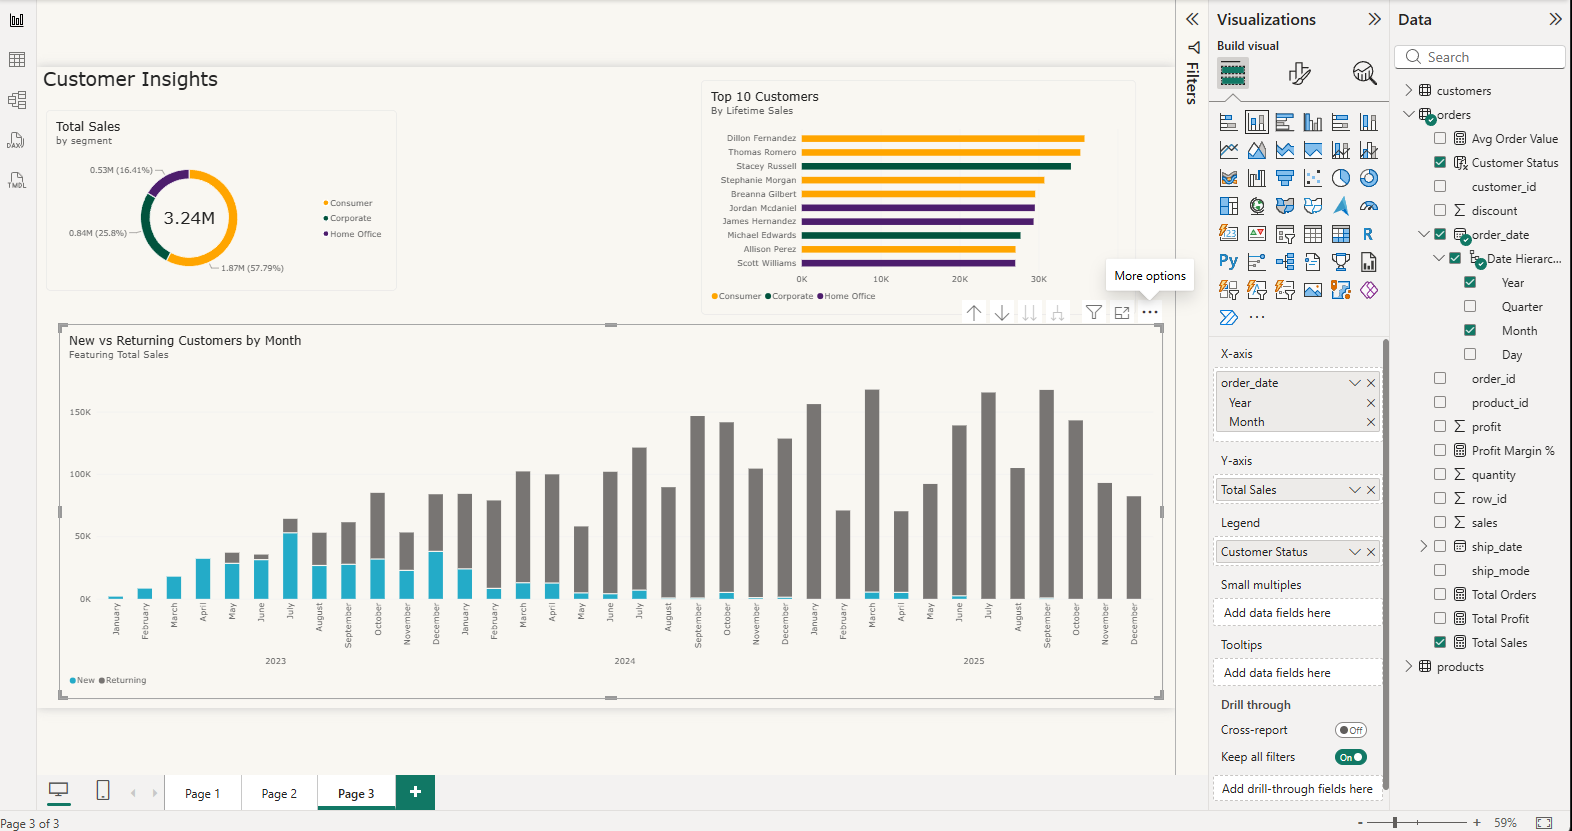

The page's visual inventory and layout, read from the dashboard file:
{"tool":"powerbi","page":{"name":"Page 3","canvas":[1920,1080],"ordinal":2},"visuals":[{"type":"textbox","box":[21.9,0,302,42.2],"z":0},{"type":"donutChart","fields":{"Y":["orders.Total Sales"],"Category":["customers.segment"]},"box":[543.3,21.9,604,396.5],"z":1000},{"type":"barChart","title":"Top 10 Customers","fields":{"Category":["customers.customer_name"],"Y":["orders.Total Sales"],"Series":["customers.segment"]},"box":[1165.8,21.9,733.9,396.5],"z":2000},{"type":"columnChart","title":"New vs Returning Customers by Month","fields":{"Series":["orders.Customer Status"],"Y":["orders.Total Sales"],"Category":["orders.order_date.Variation.Date Hierarchy.Year","orders.order_date.Variation.Date Hierarchy.Month"]},"box":[21.9,433.6,1877.8,632.7],"z":3000},{"type":"slicer","fields":{"Values":["orders.order_date"]},"box":[21.9,57.4,492.7,163.7],"z":4000},{"type":"slicer","fields":{"Values":["customers.segment"]},"box":[21.9,249.7,492.7,168.7],"z":5000}]}

Visuals, with their boxes on the page's 1920x1080 design canvas (x1, y1, x2, y2). These are canvas units, not pixel positions in the 1572x831 screenshot, which may show the page scaled, cropped or inside an application window:
textbox: [left=22, top=0, right=324, bottom=42]
donutChart - orders.Total Sales x customers.segment: [left=543, top=22, right=1147, bottom=418]
"Top 10 Customers" barChart: [left=1166, top=22, right=1900, bottom=418]
"New vs Returning Customers by Month" columnChart: [left=22, top=434, right=1900, bottom=1066]
slicer - orders.order_date: [left=22, top=57, right=515, bottom=221]
slicer - customers.segment: [left=22, top=250, right=515, bottom=418]
